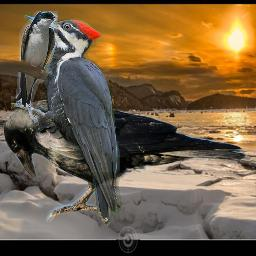Crow: (3, 98, 249, 222)
Swallow: (16, 11, 58, 107)
Woodpecker: (11, 13, 127, 226)
